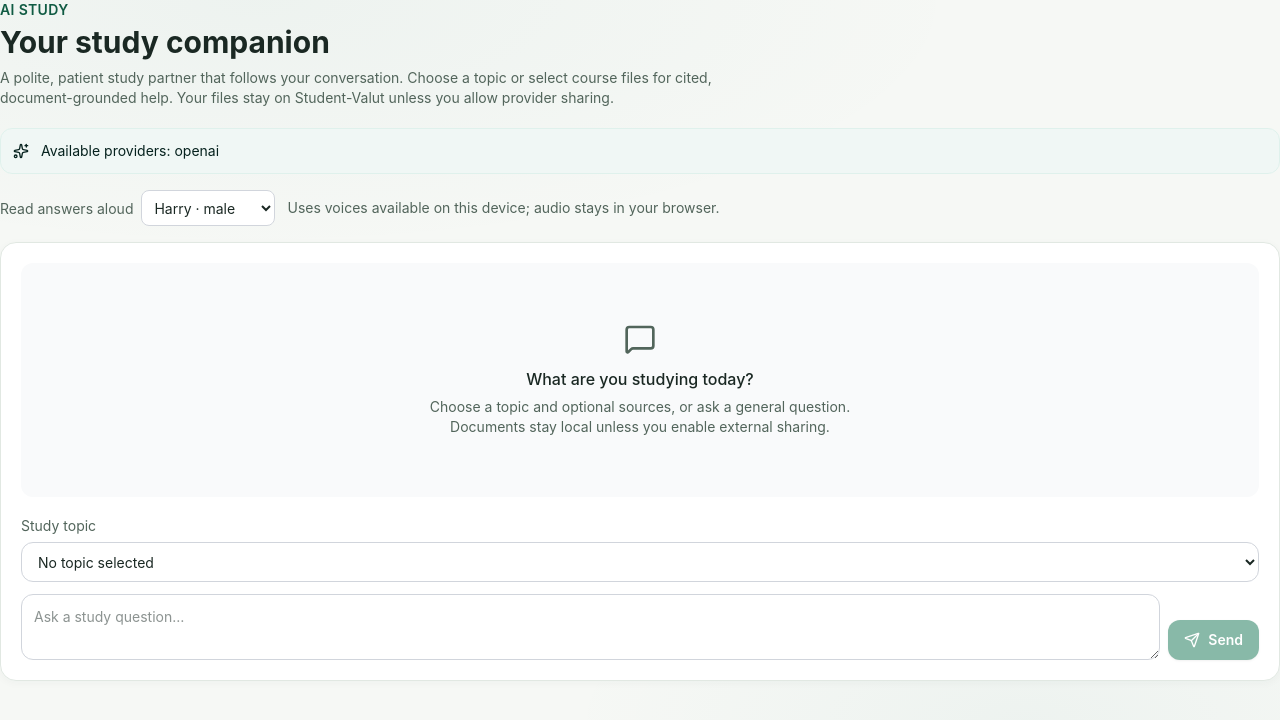
Test: AIPage › adds a requested AI answer without replacing the latest notes
expect the text "Available providers: openai" is shown: met, box [41,141,219,161]
Select "Math: Fractions" in the dropdown labelled "Study topic" at [640, 562], box [21,542,1259,582]
(page scrolled)
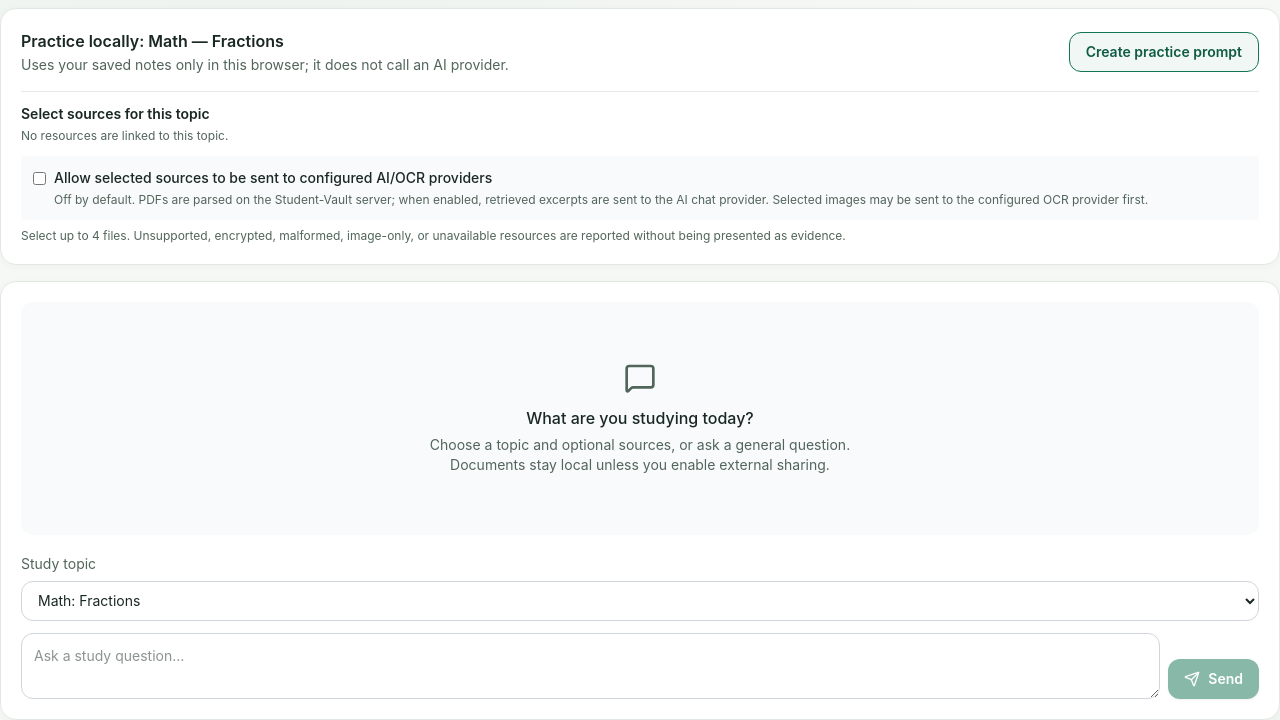
Type "How do I add fractions?" into the text box named "Your study question" at [591, 666], box [21,633,1160,699]
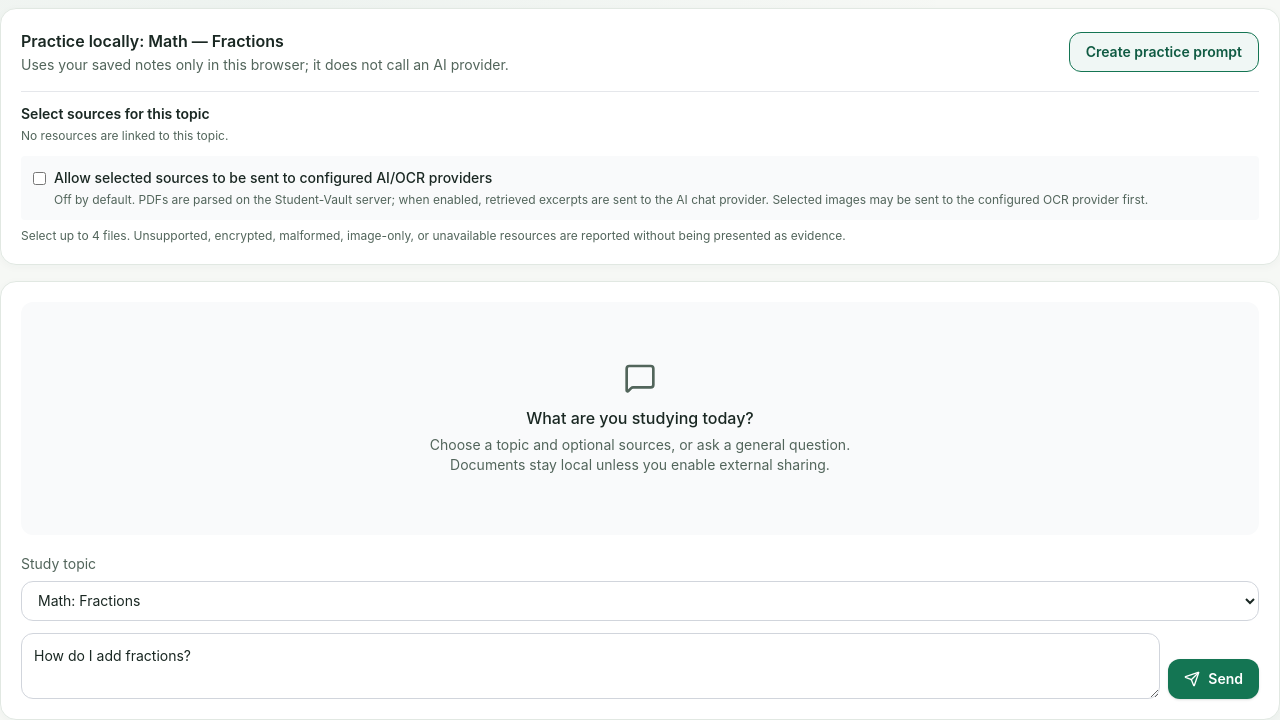
Click the button with aria-label "Send question" at [1214, 679], box [1168,659,1259,699]
(page scrolled)
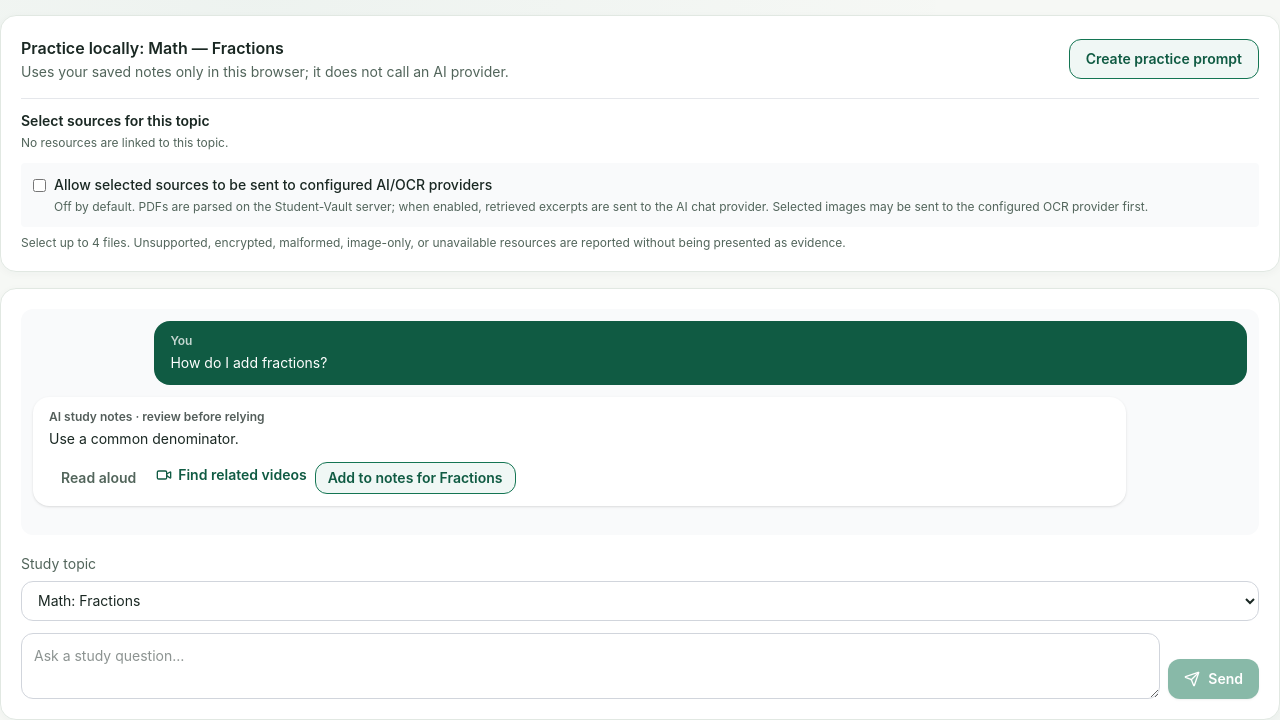
Click the button "Add to notes for Fractions" at [415, 478], box [315,462,516,494]
(page scrolled)
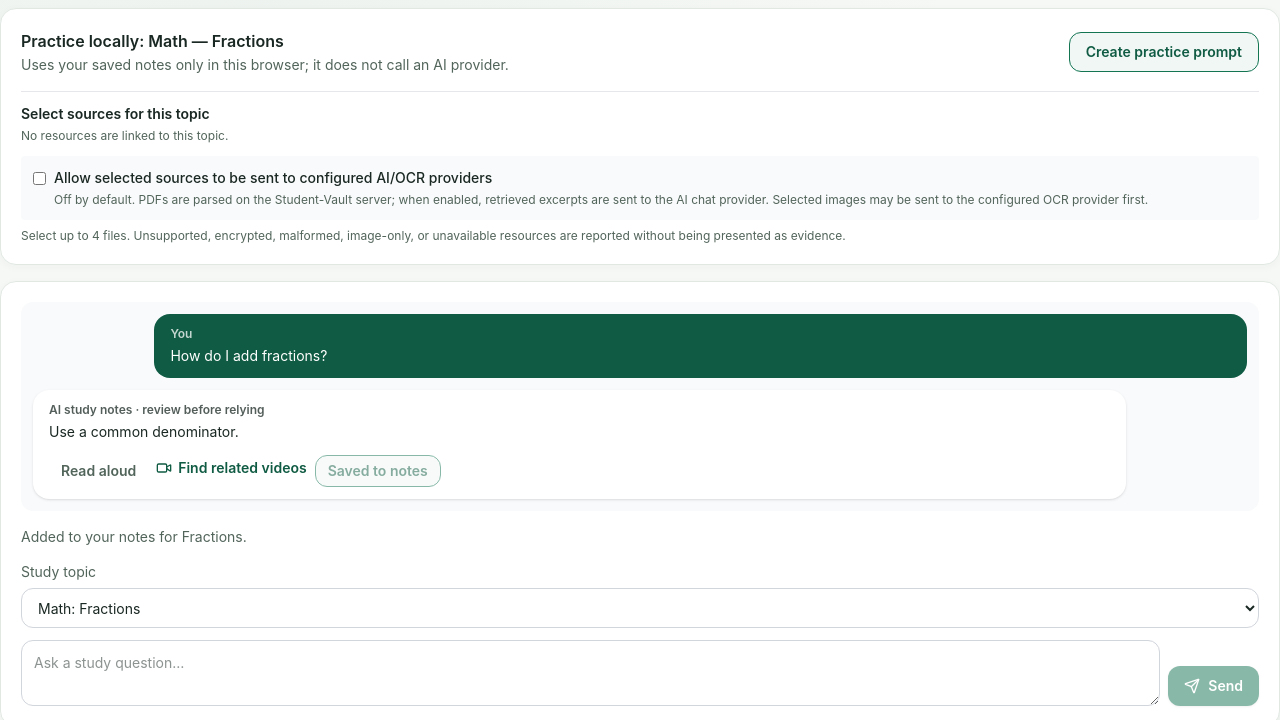
expect the text "Added to your notes for Fractions." is shown: met, box [21,528,247,545]
